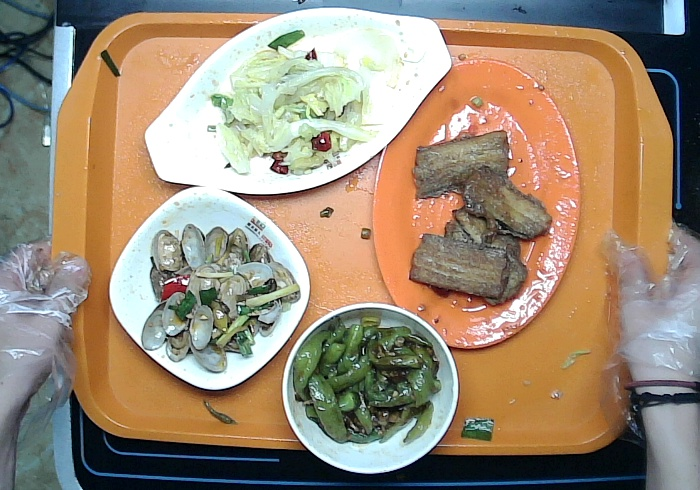NLDX-Bai_Se_Xiao_Fang_Die: (108, 187, 311, 391)
NLDX-Fan_Wan: (281, 303, 460, 473)
NLDX-Ju_Se_Pan: (374, 60, 582, 349)
NLDX-Yu_Pan: (143, 7, 453, 196)
